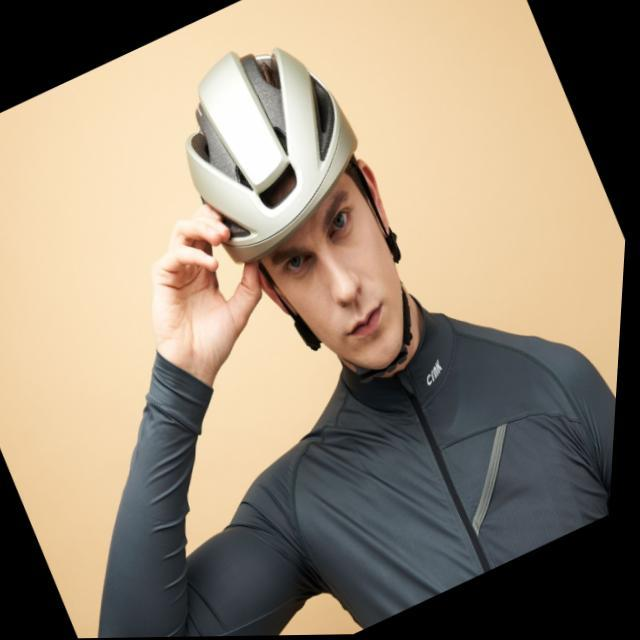Helmet: (182, 44, 422, 379)
